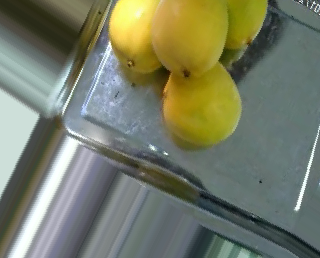Mango: (160, 59, 243, 143), (151, 0, 229, 75), (109, 0, 163, 73), (222, 0, 269, 50)
